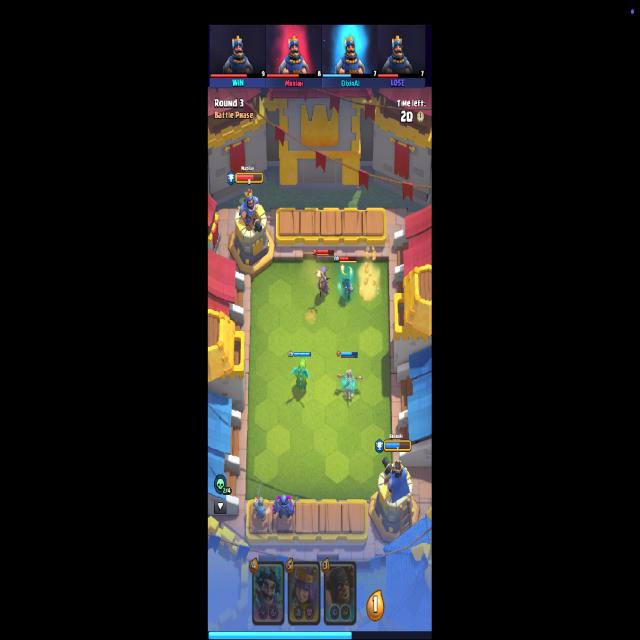baby_dragon: (292, 358, 310, 392)
card_archer_queen: (288, 561, 320, 626)
card_e_wiz: (251, 559, 285, 626)
card_executioner: (323, 560, 357, 626)
e_wiz: (340, 274, 353, 299)
knight: (253, 480, 271, 525)
pekka: (272, 494, 299, 521)
skeleton_dragon: (336, 368, 363, 398)
witch: (316, 266, 331, 300)
